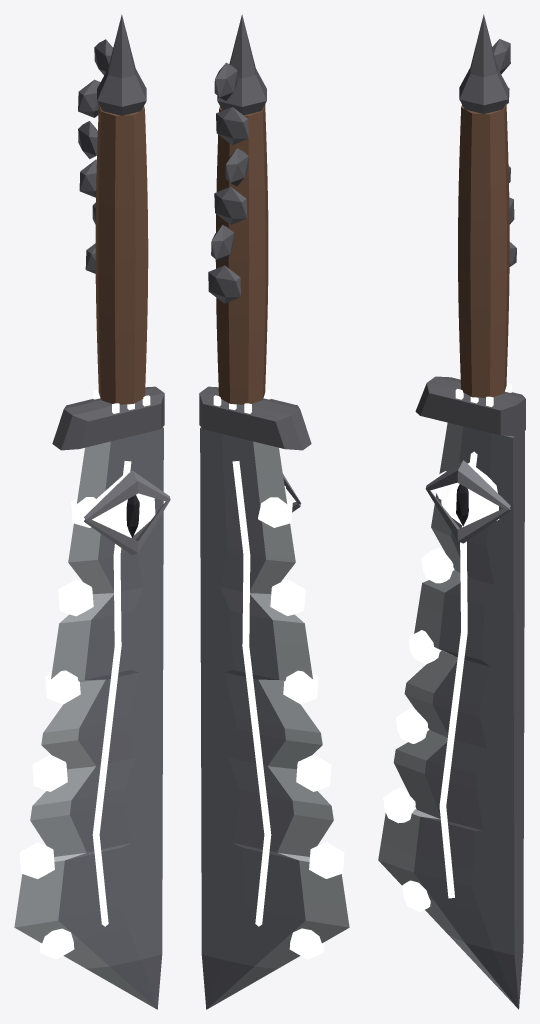
Rendered from blade-old-notch.glb.
3 views of the same model, side by side, from view 1: azimuth 30°, elevation 25°; view 2: azimuth 150°, elevation 25°; view 3: azimuth 330°, elevation 25° (orthographic).
Parts seen in each view (by area): view 1: blade-old-notch, blink_eye, pulse_vein; view 2: blade-old-notch, pulse_vein; view 3: blade-old-notch, blink_eye, pulse_vein.
Part boxes in pixels (<box>): blade-old-notch: <box>14,14,164,1009</box>; blink_eye: <box>84,470,170,555</box>; pulse_vein: <box>92,461,131,926</box>; blade-old-notch: <box>199,14,349,1009</box>; pulse_vein: <box>232,461,271,926</box>; blade-old-notch: <box>378,14,525,1009</box>; blink_eye: <box>425,460,510,543</box>; pulse_vein: <box>439,451,477,898</box>.
Bounding box in the file's own units: 0.1902 × 1.25 × 0.1112.
